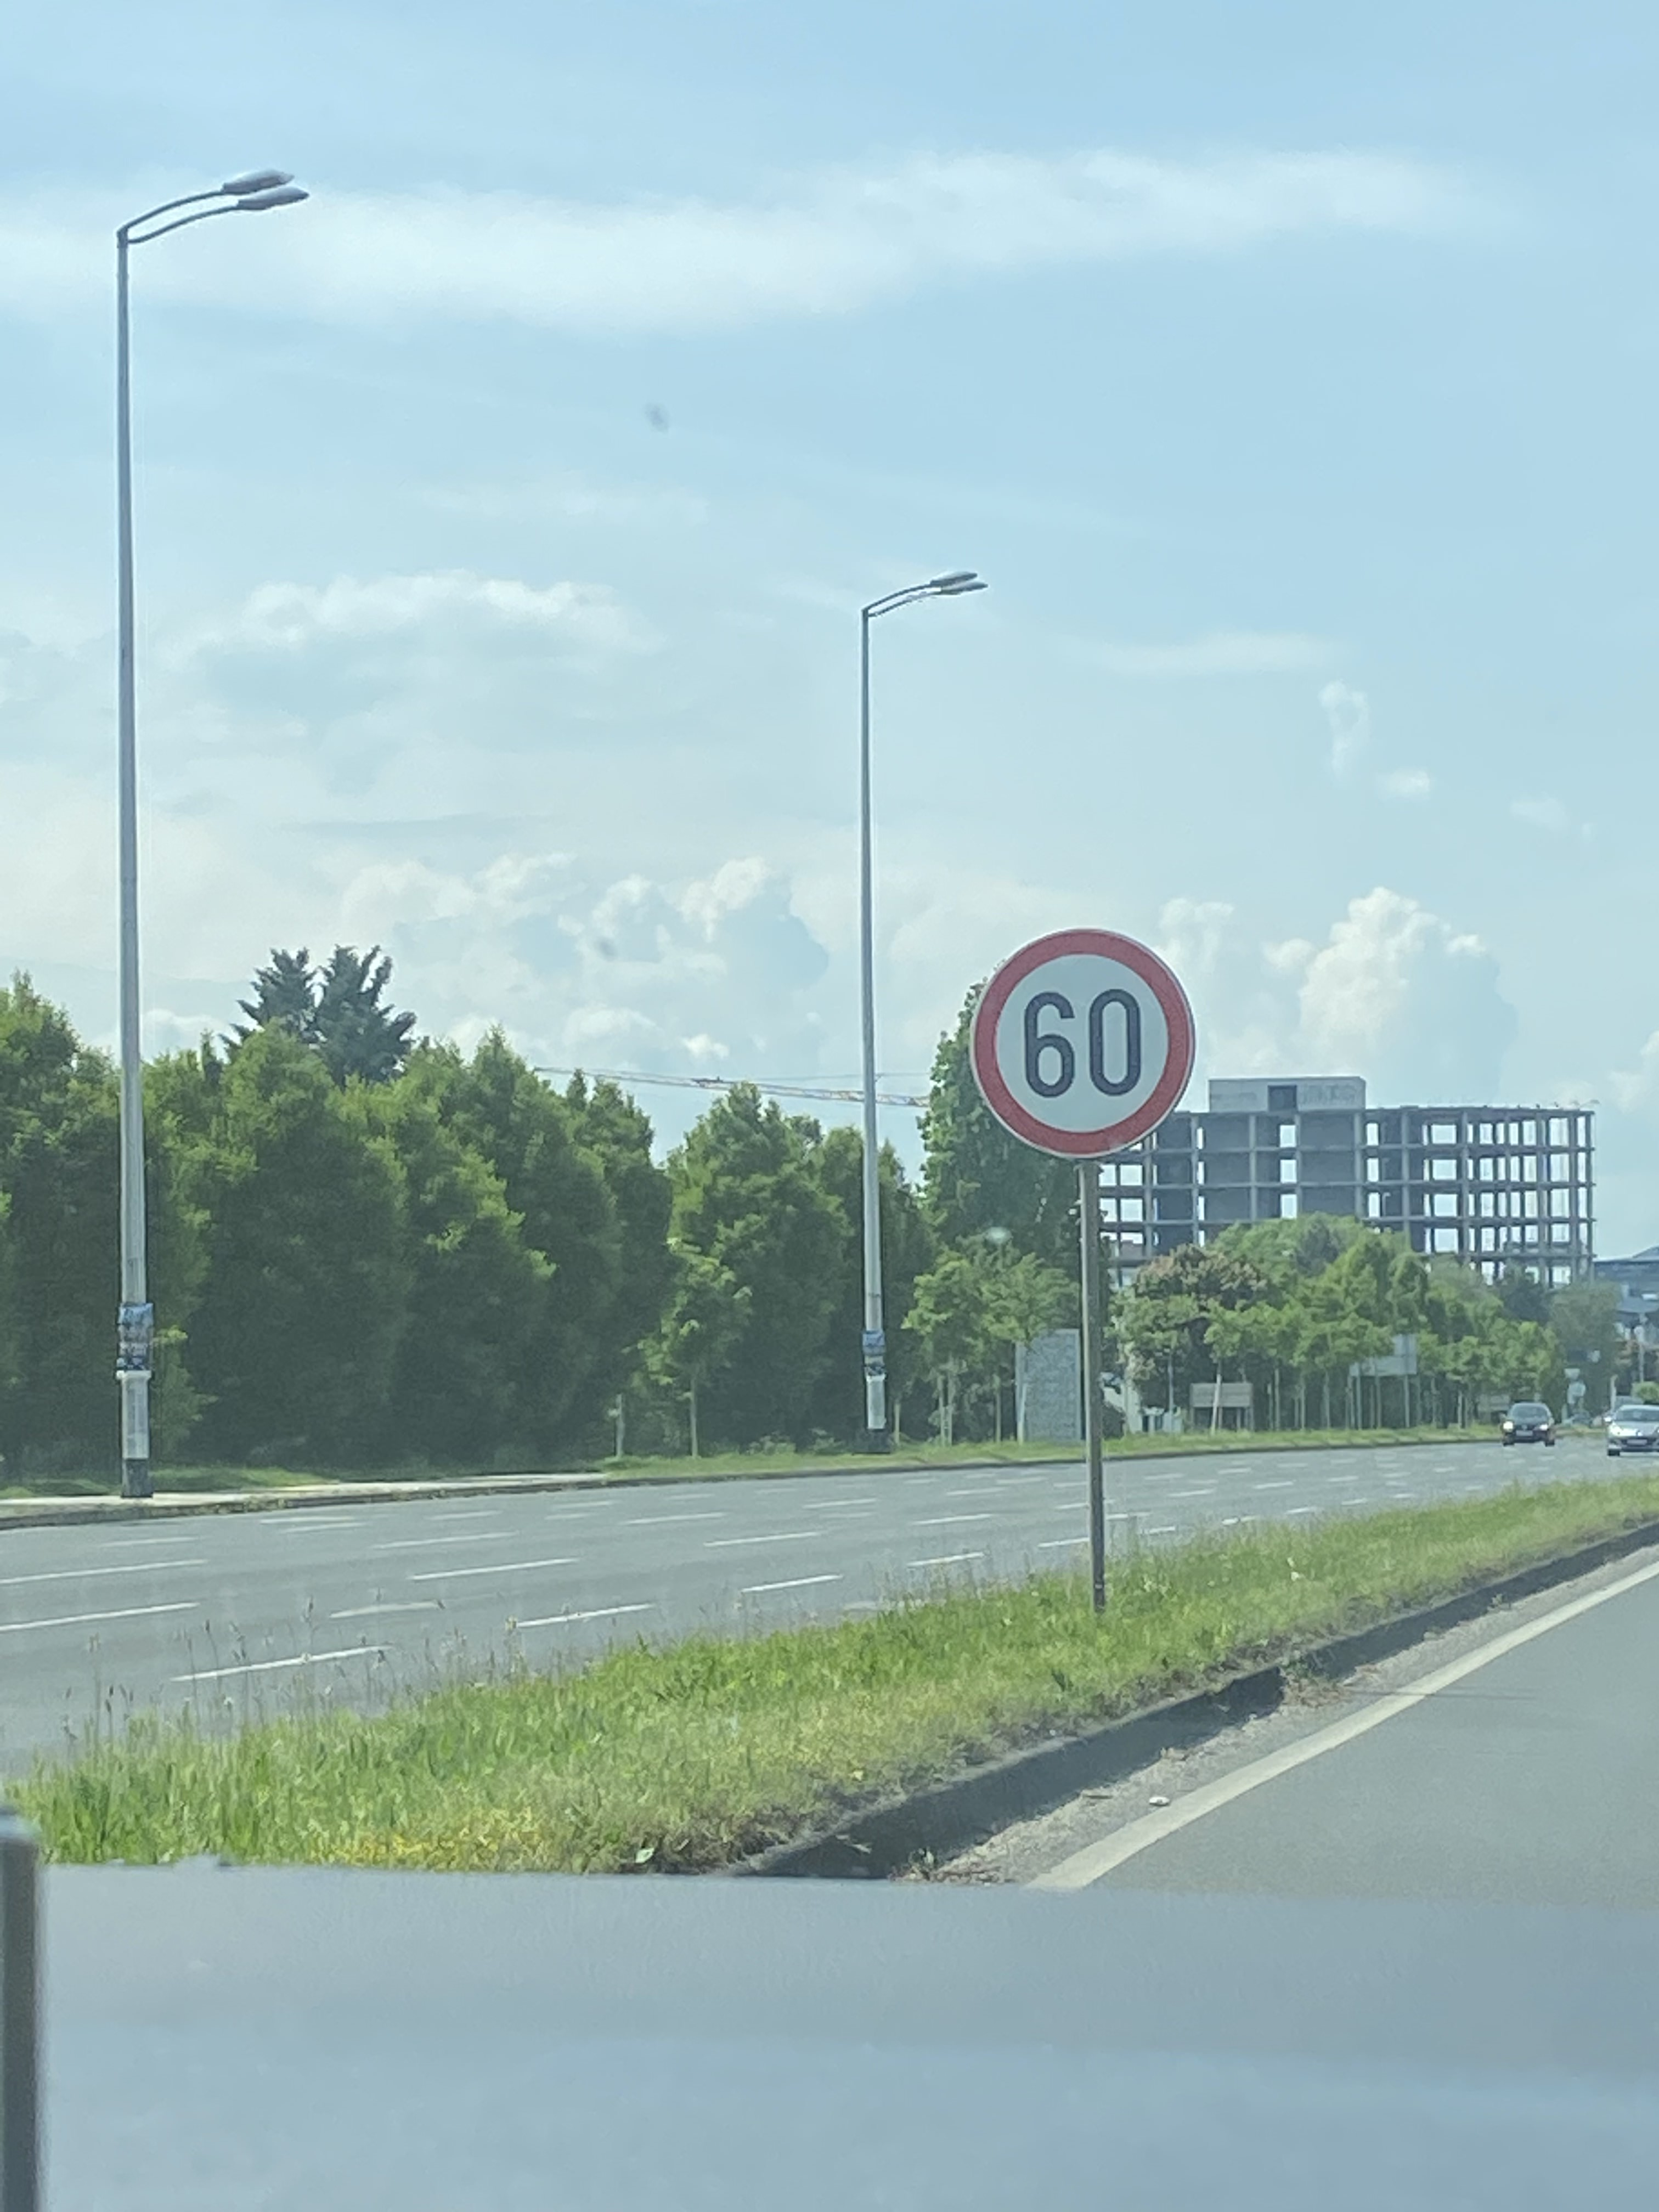Ograničenje brzine 60: (971, 928, 1197, 1158)
